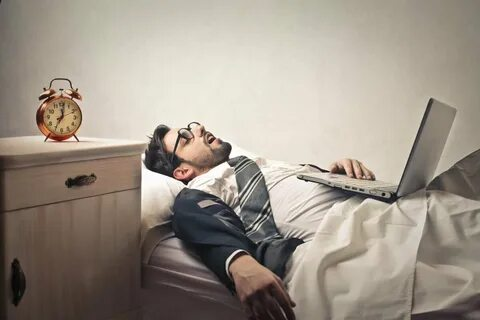sleep: (143, 120, 358, 272)
